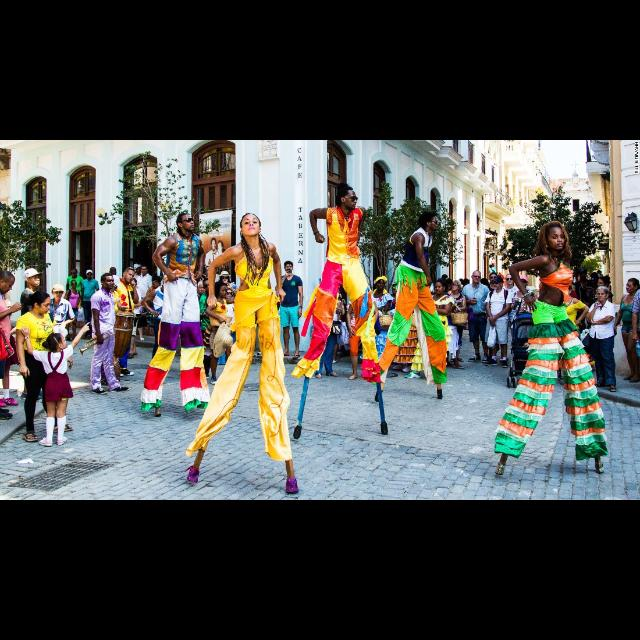head: (544, 222, 568, 250), (240, 212, 264, 235), (336, 188, 358, 210), (32, 292, 52, 314), (47, 332, 67, 352), (0, 271, 16, 295), (422, 212, 441, 232), (177, 212, 196, 232), (100, 272, 116, 290), (212, 282, 230, 298), (24, 270, 41, 286), (624, 279, 640, 295), (50, 285, 66, 301), (596, 286, 610, 302), (124, 268, 136, 284), (516, 274, 528, 290), (435, 279, 447, 295), (202, 278, 214, 292), (598, 276, 610, 290), (376, 276, 386, 292), (162, 283, 175, 295), (562, 284, 574, 296), (493, 279, 505, 291), (356, 284, 368, 296), (472, 270, 482, 284), (451, 280, 462, 292), (284, 262, 294, 274), (392, 284, 402, 296), (128, 278, 138, 288), (226, 288, 234, 300), (506, 274, 514, 286), (86, 270, 94, 280), (70, 280, 78, 290), (141, 266, 149, 276), (72, 268, 78, 278)
person: (182, 210, 304, 498), (492, 218, 612, 478), (289, 182, 393, 444), (137, 211, 216, 423), (370, 210, 450, 404), (10, 290, 76, 444), (19, 320, 92, 448), (76, 269, 132, 396), (402, 278, 456, 380), (18, 266, 52, 404), (553, 282, 593, 386), (104, 266, 140, 378), (204, 280, 242, 386), (584, 284, 620, 394), (359, 274, 397, 376), (0, 268, 24, 422), (346, 276, 380, 382), (140, 280, 178, 372), (272, 259, 306, 361), (42, 282, 76, 372), (461, 270, 492, 364), (482, 274, 512, 370), (196, 278, 224, 379), (507, 274, 539, 358), (589, 276, 615, 374), (380, 279, 410, 363), (116, 276, 144, 362), (215, 286, 241, 366), (444, 278, 468, 364), (498, 273, 522, 357), (80, 269, 102, 339), (61, 278, 84, 342), (132, 264, 156, 324), (64, 266, 86, 322)
